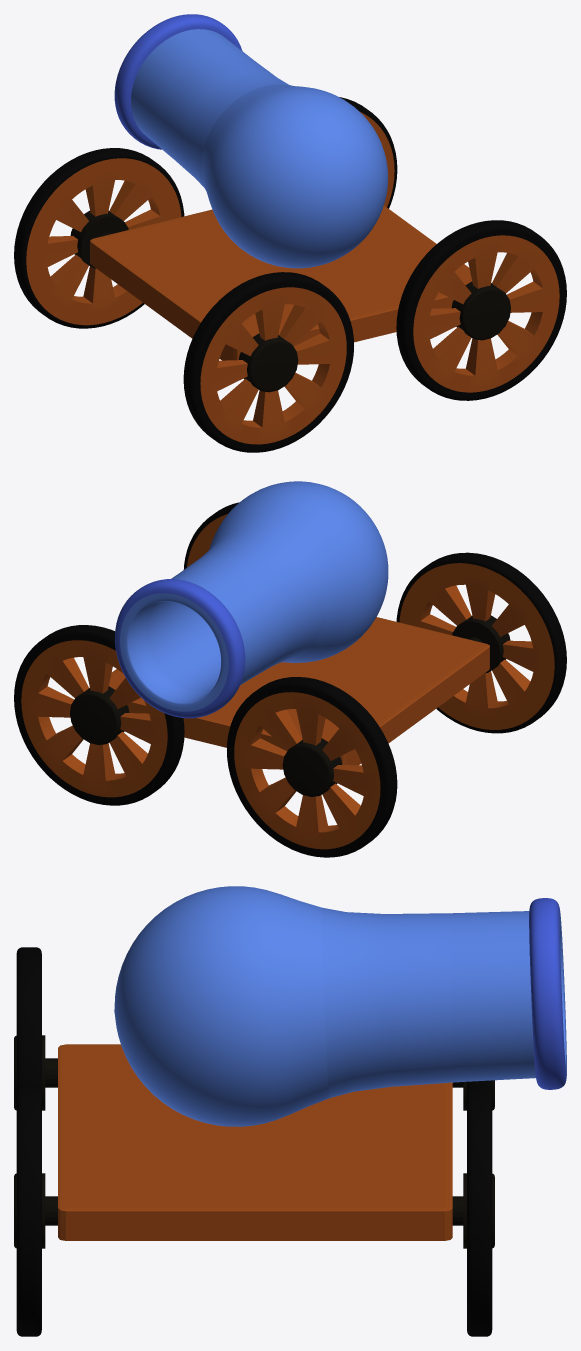
File: Cannon.fbx
3 renders of one model, top to bottom at view 1: azimuth 30°, elevation 25°; view 2: azimuth 150°, elevation 25°; view 3: azimuth 270°, elevation 25°, orthographic. The views are drawn at different scales.
Visible parts, largest first — view 1: Empty, Sphere004.001, Cube, Sphere004.003, Sphere004.002; view 2: Empty, Sphere004.003, Cube, Sphere004.001, Sphere004.002; view 3: Cube, Sphere004.001, Sphere004.002, Sphere004.003, Empty.
Part boxes in pixels (box(x1,y1,x2,y2)): Empty: box(14, 97, 566, 452); Sphere004.001: box(201, 84, 388, 268); Cube: box(90, 205, 472, 360); Sphere004.003: box(114, 14, 252, 158); Sphere004.002: box(160, 52, 289, 189); Empty: box(14, 502, 566, 857); Sphere004.003: box(115, 565, 270, 718); Cube: box(109, 617, 489, 765); Sphere004.001: box(209, 481, 388, 662); Sphere004.002: box(183, 526, 325, 678); Cube: box(58, 1044, 452, 1240); Sphere004.001: box(114, 886, 329, 1126); Sphere004.002: box(321, 907, 456, 1097); Sphere004.003: box(450, 898, 566, 1089); Empty: box(14, 947, 494, 1336).
Bounding box in the file's own units: 1.24 × 0.8488 × 1.19.
